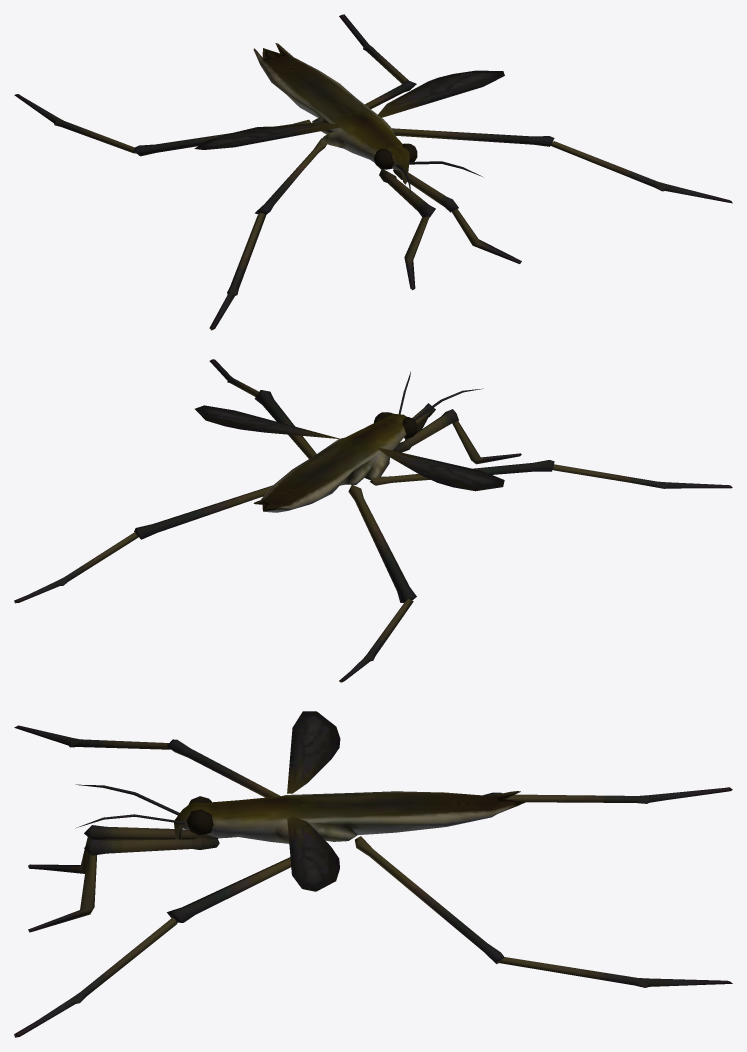
File: pondskater.glb
3 views of the same model, one above another, from view 1: azimuth 30°, elevation 25°; view 2: azimuth 150°, elevation 25°; view 3: azimuth 270°, elevation 25° (orthographic). The views are drawn at different scales.
Bounding box in the file's own units: 4.07 × 0.633 × 3.98.
1 material, 1 textured.
